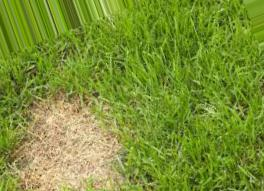patch: (37, 121, 82, 191), (86, 129, 105, 184), (21, 152, 39, 181)
